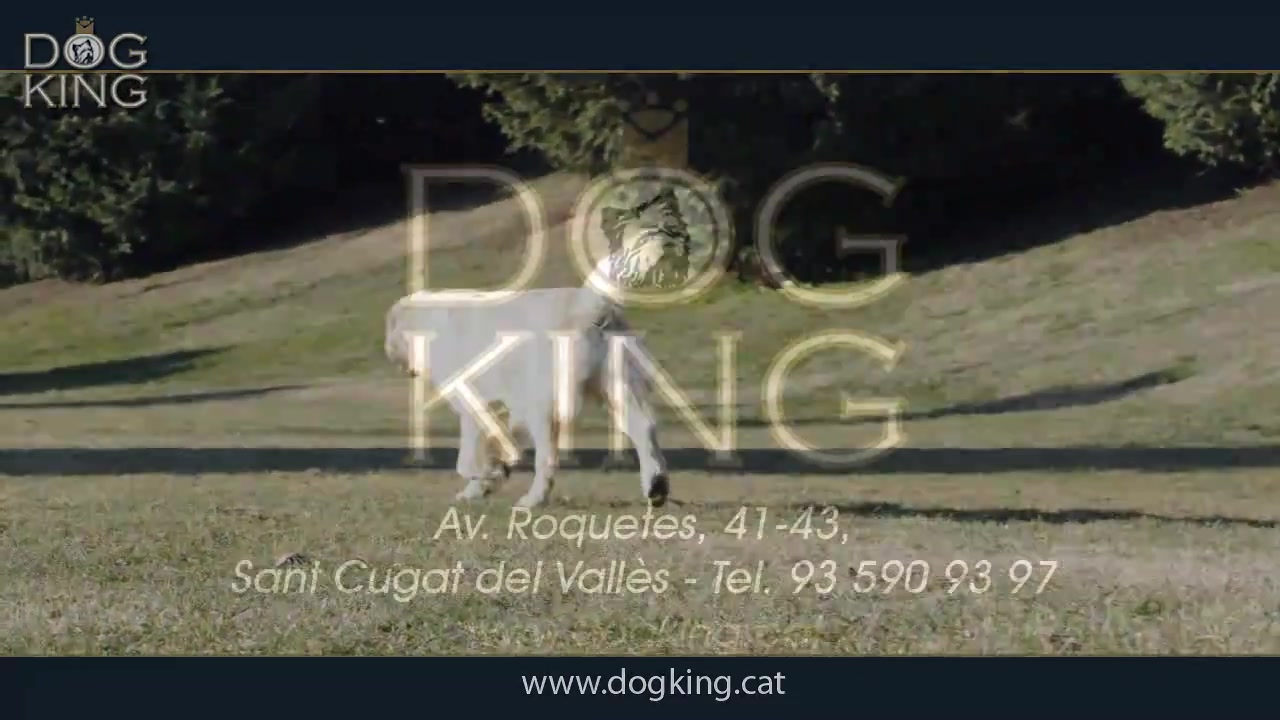dog: (382, 241, 672, 512)
